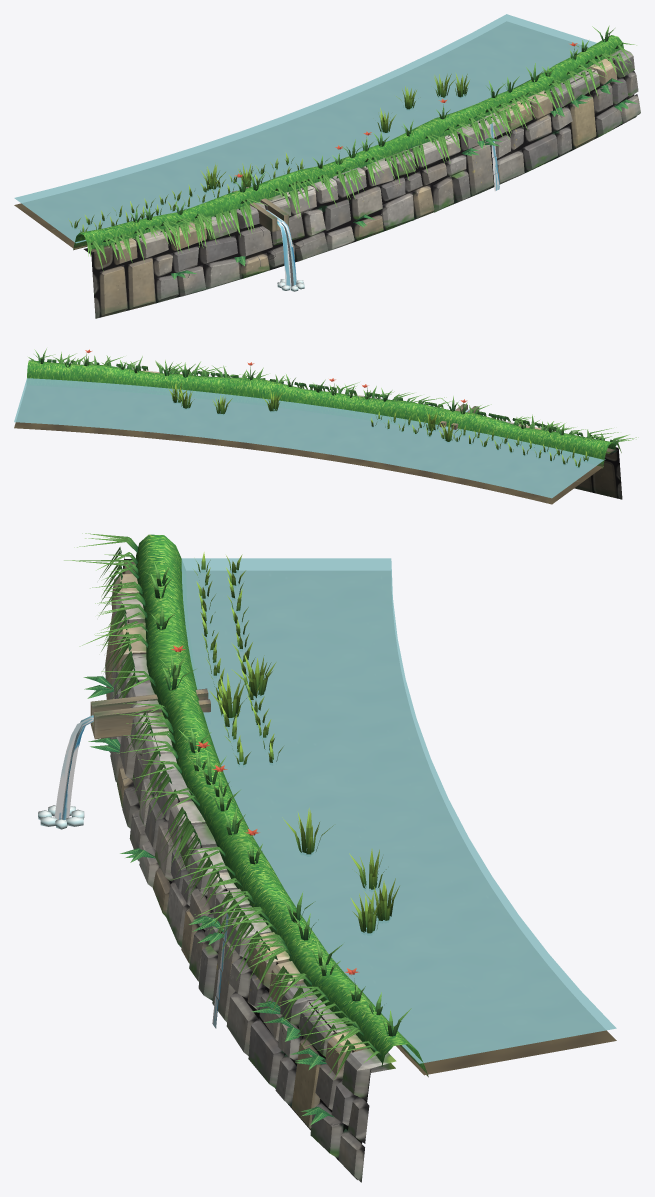
Rendered from terrace_convex_flooded.glb.
3 renders of one model, top to bottom at view 1: azimuth 30°, elevation 25°; view 2: azimuth 150°, elevation 25°; view 3: azimuth 270°, elevation 25°, orthographic. The views are drawn at different scales.
Visible parts, largest first — view 1: terrace_convex_flooded_wall, terrace_convex_flooded_water, terrace_convex_flooded_plants, terrace_convex_flooded_dike, terrace_convex_flooded_spout_fall, terrace_convex_flooded_spout; view 2: terrace_convex_flooded_water, terrace_convex_flooded_dike, terrace_convex_flooded_plants, terrace_convex_flooded_wall; view 3: terrace_convex_flooded_water, terrace_convex_flooded_wall, terrace_convex_flooded_dike, terrace_convex_flooded_plants, terrace_convex_flooded_spout, terrace_convex_flooded_spout_fall.
Part boxes in pixels (bbox=[...]): terrace_convex_flooded_wall: bbox=[83, 49, 640, 318]; terrace_convex_flooded_water: bbox=[14, 14, 596, 243]; terrace_convex_flooded_plants: bbox=[69, 25, 637, 279]; terrace_convex_flooded_dike: bbox=[14, 23, 623, 250]; terrace_convex_flooded_spout_fall: bbox=[266, 210, 296, 286]; terrace_convex_flooded_spout: bbox=[232, 187, 288, 232]; terrace_convex_flooded_water: bbox=[14, 378, 605, 498]; terrace_convex_flooded_dike: bbox=[14, 360, 615, 504]; terrace_convex_flooded_plants: bbox=[28, 348, 638, 467]; terrace_convex_flooded_wall: bbox=[141, 370, 622, 499]; terrace_convex_flooded_water: bbox=[181, 558, 616, 1063]; terrace_convex_flooded_wall: bbox=[105, 557, 396, 1182]; terrace_convex_flooded_dike: bbox=[136, 534, 616, 1077]; terrace_convex_flooded_plants: bbox=[64, 533, 411, 1125]; terrace_convex_flooded_spout: bbox=[90, 688, 210, 739]; terrace_convex_flooded_spout_fall: bbox=[54, 715, 93, 819].
Bounding box in the file's own units: 12.02 × 1.72 × 5.53.
6 materials, 5 textured.
